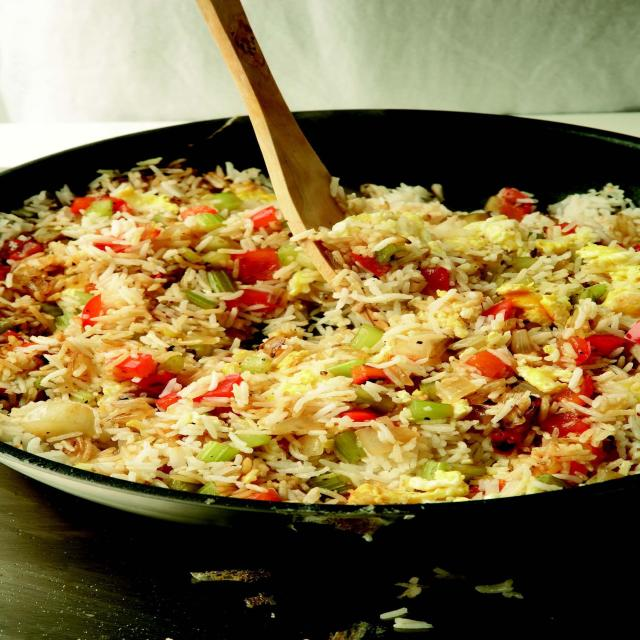Nasi Goreng: (2, 159, 638, 504)
